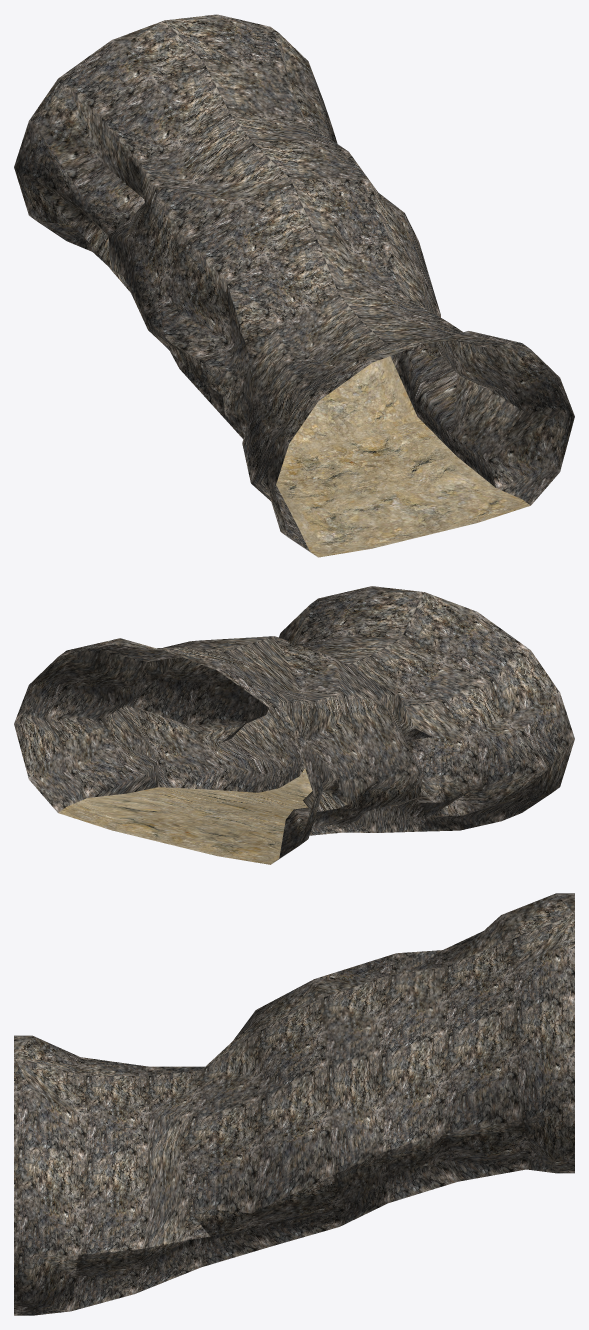
File: pir_m_are_cav_hallWideDescend.fbx
3 renders of one model, top to bottom at view 1: azimuth 30°, elevation 25°; view 2: azimuth 150°, elevation 25°; view 3: azimuth 270°, elevation 25°, orthographic. The views are drawn at different scales.
Parts seen in each view (by area): view 1: hallWideDescend_wall, hallWideDescend_floor; view 2: hallWideDescend_wall, hallWideDescend_floor; view 3: hallWideDescend_wall.
Boxes of the visible parts, x1=… form: hallWideDescend_wall: x1=14, y1=14, x2=574, y2=555; hallWideDescend_floor: x1=276, y1=356, x2=530, y2=557; hallWideDescend_wall: x1=14, y1=586, x2=574, y2=862; hallWideDescend_floor: x1=58, y1=768, x2=312, y2=864; hallWideDescend_wall: x1=14, y1=893, x2=574, y2=1315.
Bounding box in the file's own units: 10000 × 10325 × 15000.
2 materials, 2 textured.
